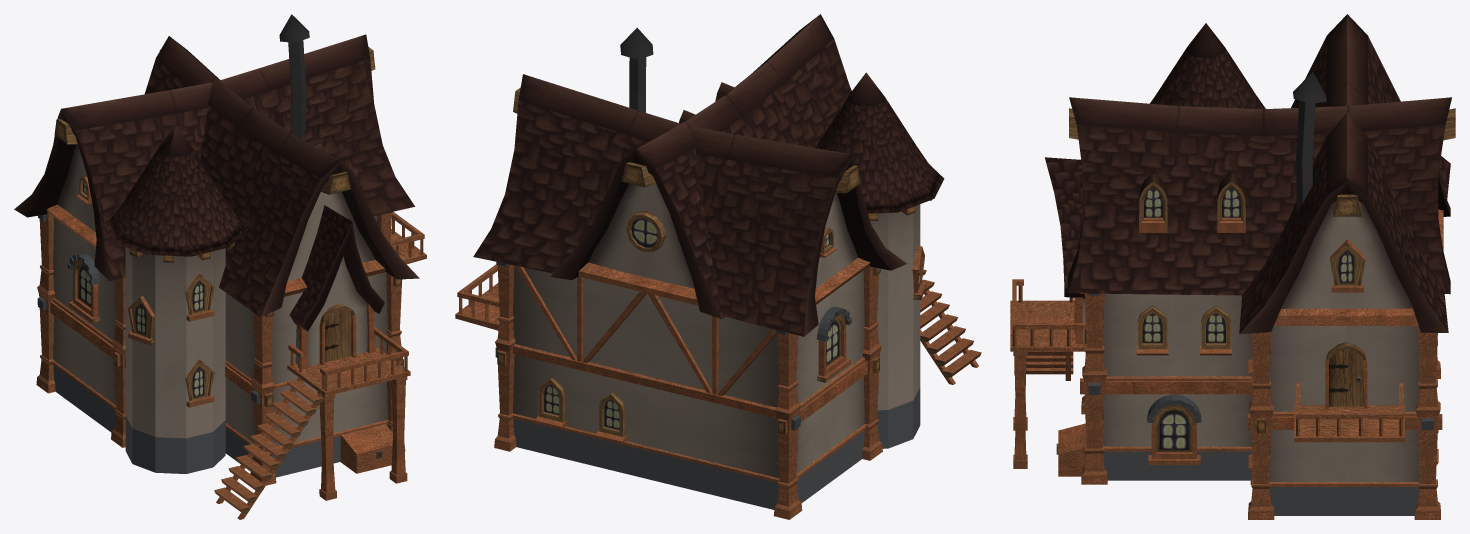
Rendered from fanasty_mod_building02.fbx.
The picture shows the model from 3 angles, left to right: view 1: azimuth 30°, elevation 25°; view 2: azimuth 150°, elevation 25°; view 3: azimuth 270°, elevation 25°; orthographic projection. The views are drawn at different scales.
Parts seen in each view (by area): view 1: village_building_02; view 2: village_building_02; view 3: village_building_02.
Part boxes in pixels (x1,y1,x2,y2): village_building_02: (14,14,426,519); village_building_02: (455,14,981,519); village_building_02: (1010,14,1455,519).
Bounding box in the file's own units: 14.84 × 14.63 × 14.48.
